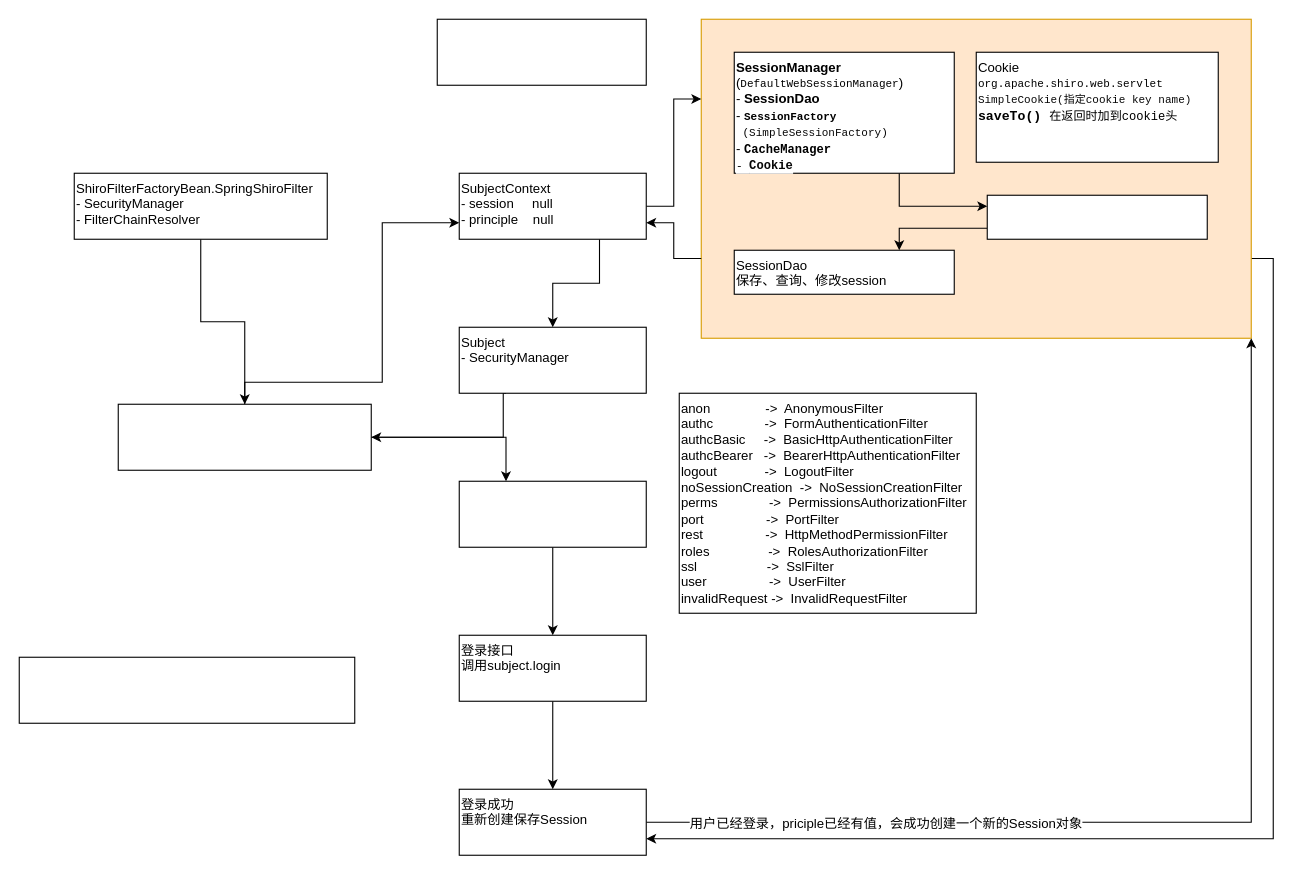
Some shapes in this 1301 by 875 pixel diagram are drawn without their labels. Here are the shapes that lost their labels. From the top down, the centre of each, then its label:
pixel 541 51: CacheManager 保存Session和Authentication信息
pixel 1096 216: SessionFactory 创建session
pixel 244 436: SecurityManager - Authorizer (ModularRealmAuthenticator)
pixel 552 513: FilterChainResolver 根据访问路径走不同的Filter
pixel 186 689: org.apache.shiro.web.servlet.OncePerRequestFilter doFilterInternal()
